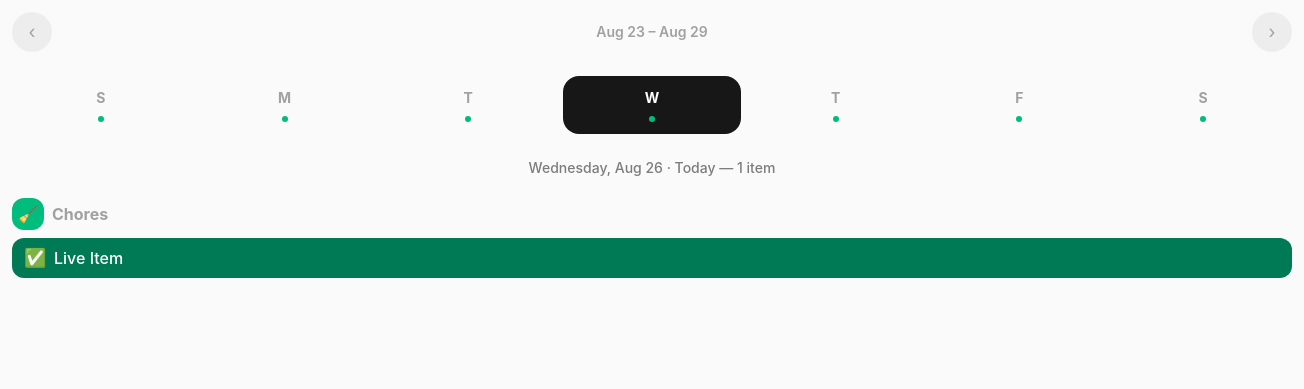
WeekView history › asks for history when a past day in the current week is selected, and renders the snapshot
Click the button named "Monday". click: (285, 105)
box: [196, 76, 373, 134]
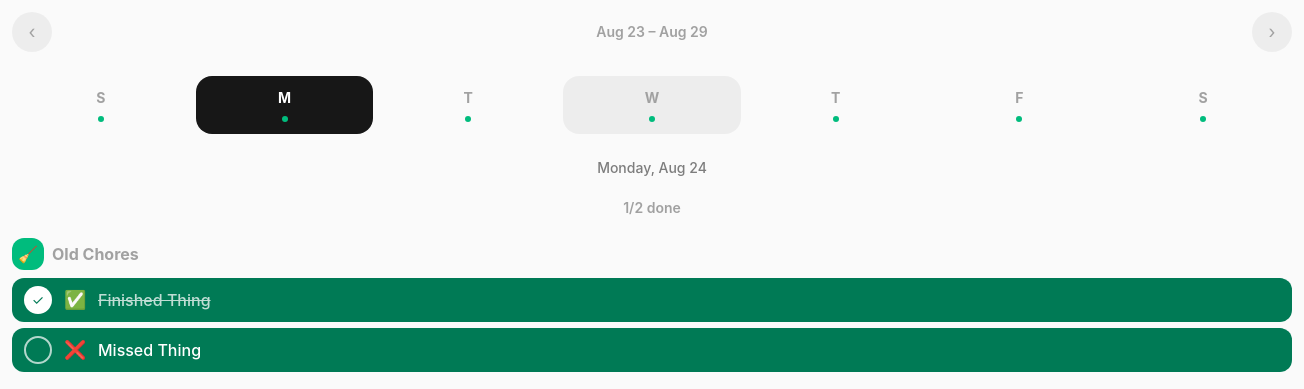
Expected: the text "Finished Thing" is shown, [98, 290, 211, 310]
Expected: the text "Missed Thing" is shown, [98, 340, 201, 360]
Expected: the text "1/2 done" is shown, [623, 199, 681, 216]
